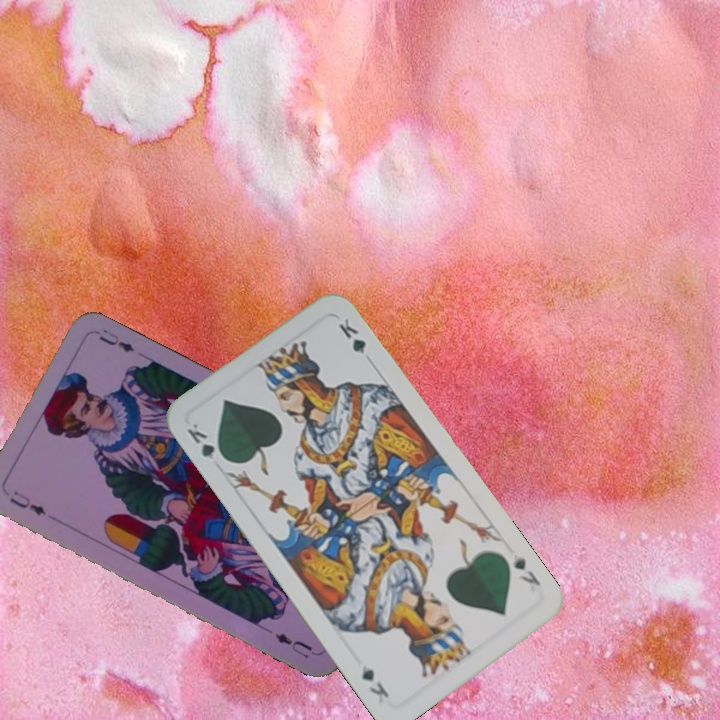EU: (5, 486, 49, 518)
GK: (183, 419, 230, 465), (509, 552, 544, 589)
